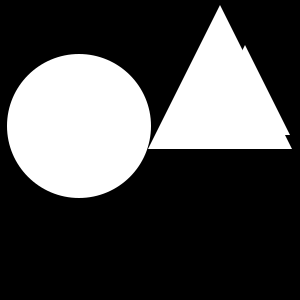rectangle: (7, 54, 151, 198)
triangle: (148, 5, 292, 149), (200, 45, 290, 135)
